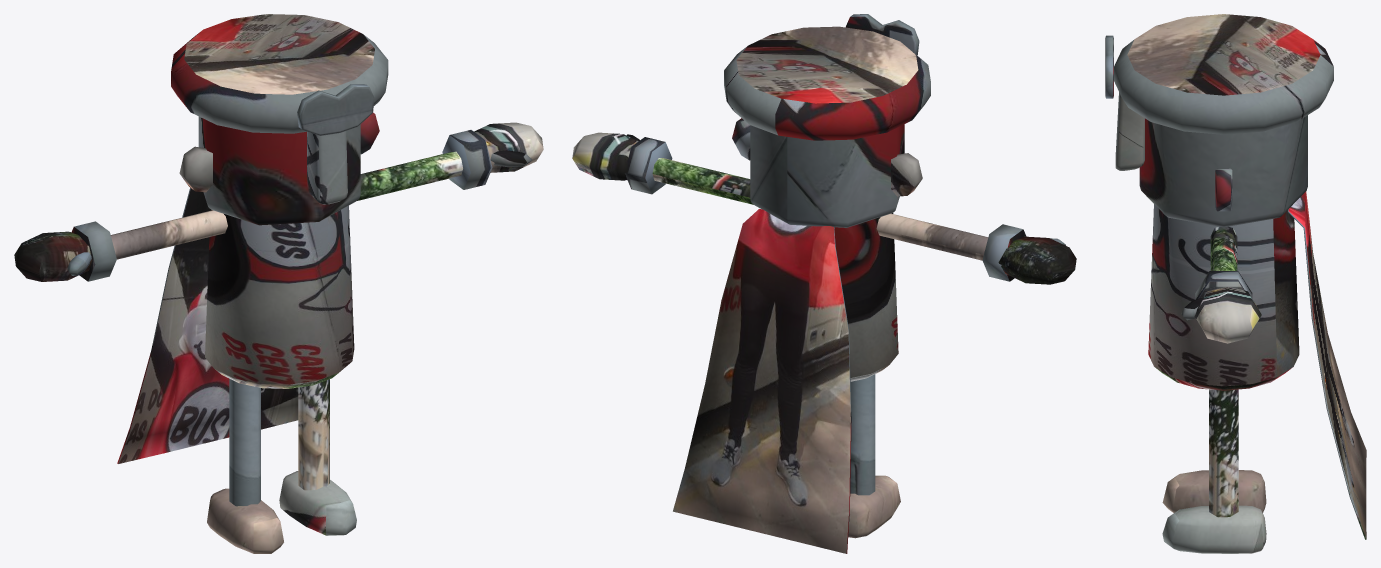
File: Superbus.fbx
The picture shows the model from 3 angles, left to right: view 1: azimuth 30°, elevation 25°; view 2: azimuth 150°, elevation 25°; view 3: azimuth 270°, elevation 25°; orthographic projection. The views are drawn at different scales.
Visible parts, largest first — view 1: cuerpo, gorro, capa, cabeza_02, piernas, zapas_022, brazos, manos, muñecas, ojos, nariz, orejas (+1 smaller); view 2: capa, gorro, cabeza_02, cuerpo, manos, brazos, muñecas, piernas, zapas_022, orejas, ojos; view 3: gorro, cuerpo, cabeza_02, zapas_022, capa, piernas, manos, nariz, brazos, muñecas, orejas, ojos.
Boxes of the visible parts, x1,y1,x2,y2 form: cuerpo: [205, 205, 354, 388]; gorro: [171, 14, 388, 133]; capa: [117, 188, 298, 463]; cabeza_02: [198, 116, 360, 225]; piernas: [229, 379, 329, 506]; zapas_022: [207, 471, 356, 553]; brazos: [110, 151, 462, 259]; manos: [14, 122, 543, 281]; muñecas: [71, 130, 492, 281]; ojos: [297, 84, 374, 135]; nariz: [307, 131, 347, 204]; orejas: [179, 112, 379, 192]; capa: [673, 209, 851, 553]; gorro: [724, 26, 930, 140]; cabeza_02: [750, 124, 904, 227]; cuerpo: [834, 213, 898, 381]; manos: [572, 132, 1076, 284]; brazos: [652, 158, 988, 260]; muñecas: [624, 137, 1026, 281]; piernas: [850, 374, 875, 495]; zapas_022: [848, 475, 900, 538]; orejas: [732, 118, 922, 196]; ojos: [845, 14, 919, 55]; gorro: [1114, 14, 1333, 134]; cuerpo: [1148, 204, 1299, 390]; cabeza_02: [1139, 115, 1307, 227]; zapas_022: [1162, 470, 1266, 553]; capa: [1287, 191, 1366, 539]; piernas: [1209, 389, 1238, 517]; manos: [1194, 287, 1261, 343]; nariz: [1115, 92, 1144, 170]; brazos: [1210, 226, 1237, 270]; muñecas: [1195, 271, 1252, 299]; orejas: [1215, 168, 1232, 211]; ojos: [1105, 35, 1113, 98].
Size of the model in its own units: 199 by 174 by 85.31.
